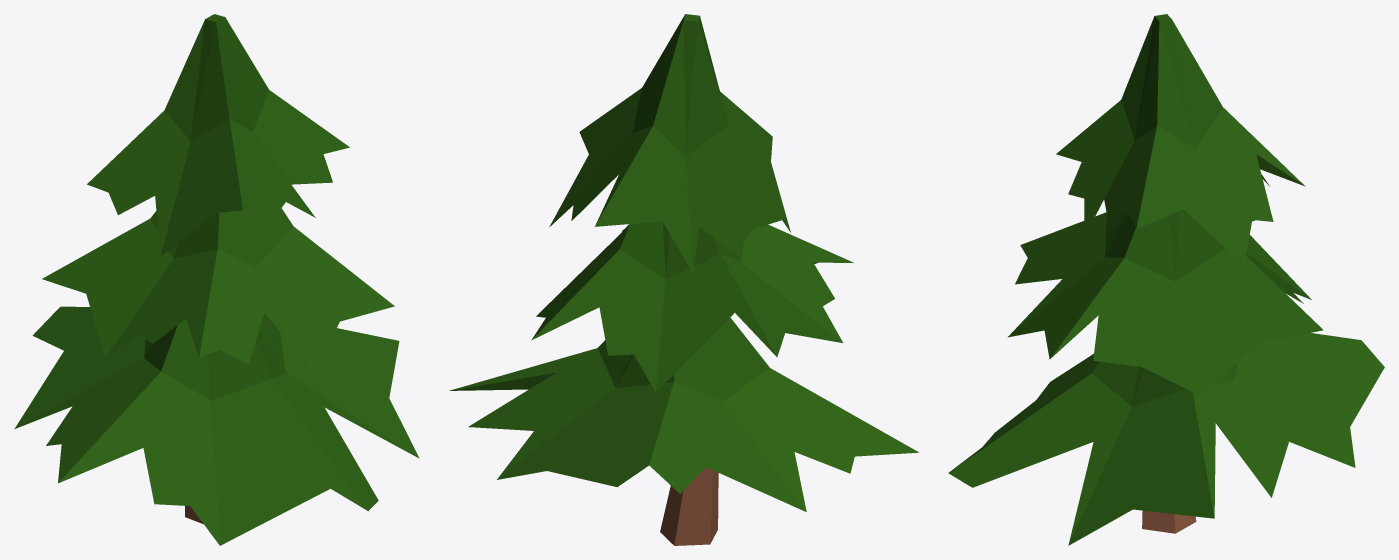
File: tree_2.fbx
3 views of the same model, side by side, from view 1: azimuth 30°, elevation 25°; view 2: azimuth 150°, elevation 25°; view 3: azimuth 270°, elevation 25° (orthographic). The views are drawn at different scales.
Visible parts, largest first — view 1: tree_2; view 2: tree_2; view 3: tree_2.
Part boxes in pixels (<box>): tree_2: <box>14,14,419,545</box>; tree_2: <box>449,14,918,545</box>; tree_2: <box>948,14,1384,545</box>.
Size of the model in its own units: 327 by 391 by 307.
